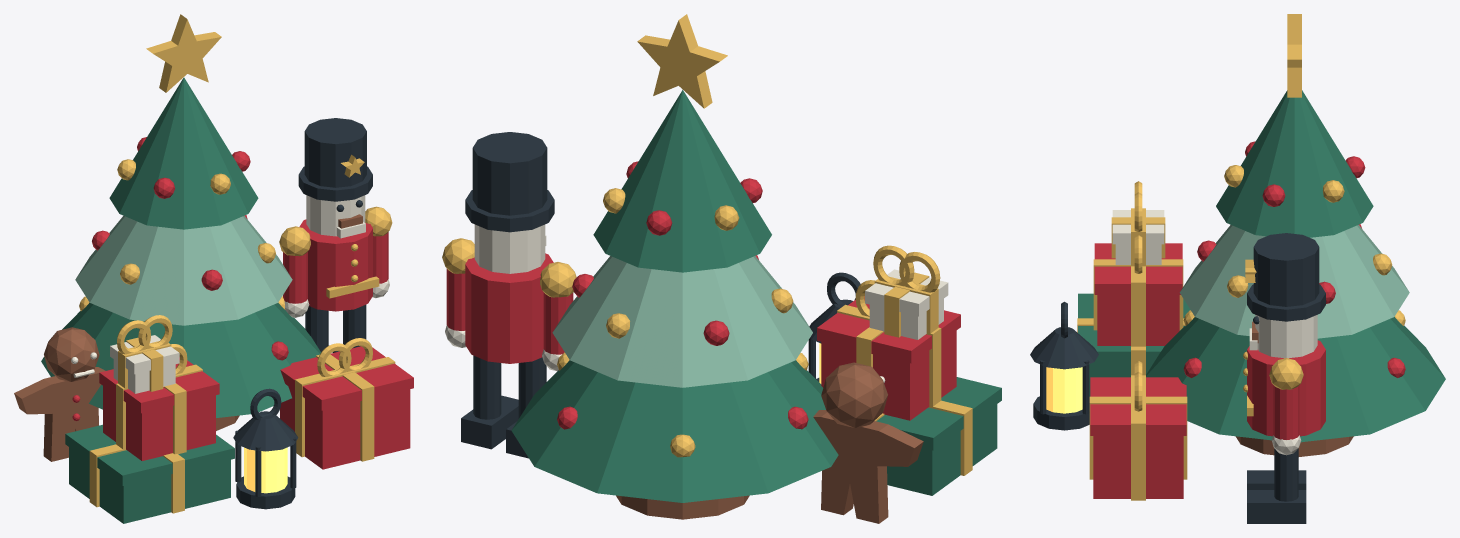
Rendered from north-pole-village-fireside-gifts-scene-94e85f52__25434.glb.
The picture shows the model from 3 angles, left to right: view 1: azimuth 30°, elevation 25°; view 2: azimuth 150°, elevation 25°; view 3: azimuth 270°, elevation 25°; orthographic projection. The views are drawn at different scales.
Parts seen in each view (by area): view 1: 000-decorated-christmas-tree/9, 000-decorated-christmas-tree/16, 000-decorated-christmas-tree/2, 002-ribbon-gift/0, 001-gift-stack/0, 003-nutcracker/4, 001-gift-stack/6, 005-gingerbread-cookie/0, 001-gift-stack/1, 003-nutcracker/7, 002-ribbon-gift/1, 000-decorated-christmas-tree/23 (+29 smaller); view 2: 000-decorated-christmas-tree/2, 000-decorated-christmas-tree/9, 000-decorated-christmas-tree/16, 003-nutcracker/4, 005-gingerbread-cookie/0, 003-nutcracker/7, 001-gift-stack/6, 001-gift-stack/0, 000-decorated-christmas-tree/23, 001-gift-stack/1, 005-gingerbread-cookie/1, 001-gift-stack/7 (+19 smaller); view 3: 000-decorated-christmas-tree/2, 000-decorated-christmas-tree/16, 000-decorated-christmas-tree/9, 002-ribbon-gift/0, 003-nutcracker/7, 003-nutcracker/4, 002-ribbon-gift/1, 001-gift-stack/6, 001-gift-stack/7, 003-nutcracker/5, 004-warm-lantern/2, 003-nutcracker/1 (+19 smaller).
Boxes of the visible parts, left/top/right/bottom form: 000-decorated-christmas-tree/9: left=75, top=215, right=292, bottom=325; 000-decorated-christmas-tree/16: left=109, top=77, right=258, bottom=229; 000-decorated-christmas-tree/2: left=41, top=302, right=320, bottom=417; 002-ribbon-gift/0: left=280, top=386, right=410, bottom=469; 001-gift-stack/0: left=69, top=447, right=230, bottom=523; 003-nutcracker/4: left=299, top=219, right=372, bottom=311; 001-gift-stack/6: left=103, top=386, right=215, bottom=460; 005-gingerbread-cookie/0: left=14, top=367, right=105, bottom=461; 001-gift-stack/1: left=65, top=424, right=234, bottom=485; 003-nutcracker/7: left=304, top=118, right=366, bottom=187; 002-ribbon-gift/1: left=280, top=346, right=413, bottom=410; 000-decorated-christmas-tree/23: left=146, top=14, right=221, bottom=92; 000-decorated-christmas-tree/2: left=511, top=360, right=838, bottom=502; 000-decorated-christmas-tree/9: left=552, top=256, right=812, bottom=387; 000-decorated-christmas-tree/16: left=593, top=90, right=771, bottom=272; 003-nutcracker/4: left=465, top=253, right=553, bottom=363; 005-gingerbread-cookie/0: left=813, top=410, right=923, bottom=523; 003-nutcracker/7: left=472, top=132, right=547, bottom=215; 001-gift-stack/6: left=821, top=330, right=956, bottom=420; 001-gift-stack/0: left=887, top=404, right=997, bottom=495; 000-decorated-christmas-tree/23: left=637, top=14, right=727, bottom=108; 001-gift-stack/1: left=876, top=377, right=1001, bottom=450; 005-gingerbread-cookie/1: left=821, top=362, right=887, bottom=428; 001-gift-stack/7: left=817, top=296, right=960, bottom=363; 000-decorated-christmas-tree/2: left=1146, top=317, right=1445, bottom=442; 000-decorated-christmas-tree/16: left=1216, top=90, right=1373, bottom=237; 000-decorated-christmas-tree/9: left=1179, top=225, right=1409, bottom=338; 002-ribbon-gift/0: left=1093, top=436, right=1183, bottom=498; 003-nutcracker/7: left=1253, top=233, right=1319, bottom=306; 003-nutcracker/4: left=1247, top=340, right=1325, bottom=436; 002-ribbon-gift/1: left=1090, top=377, right=1186, bottom=435; 001-gift-stack/6: left=1097, top=295, right=1179, bottom=345; 001-gift-stack/7: left=1094, top=243, right=1182, bottom=294; 003-nutcracker/5: left=1255, top=315, right=1317, bottom=358; 004-warm-lantern/2: left=1030, top=327, right=1098, bottom=369; 003-nutcracker/1: left=1247, top=490, right=1306, bottom=523.
Bounding box in the file's own units: 2.86 × 2.8 × 2.53.
